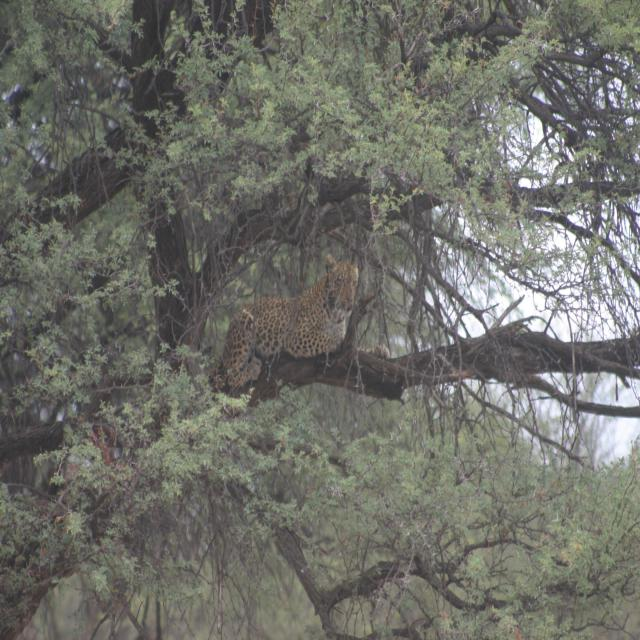Leopard: (210, 262, 360, 414)
